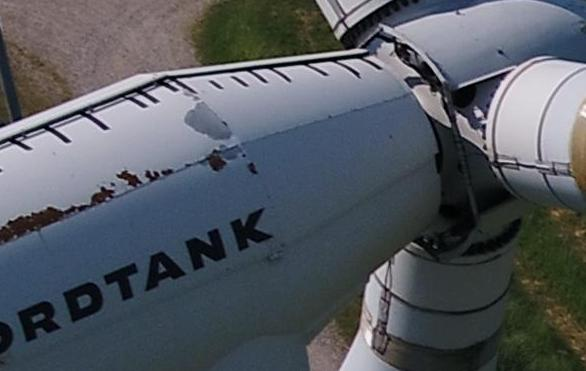damage: (0, 202, 77, 243), (184, 101, 232, 139), (90, 185, 114, 205), (117, 169, 141, 187), (206, 152, 227, 172), (220, 143, 240, 162), (145, 171, 159, 181), (160, 169, 173, 175)
